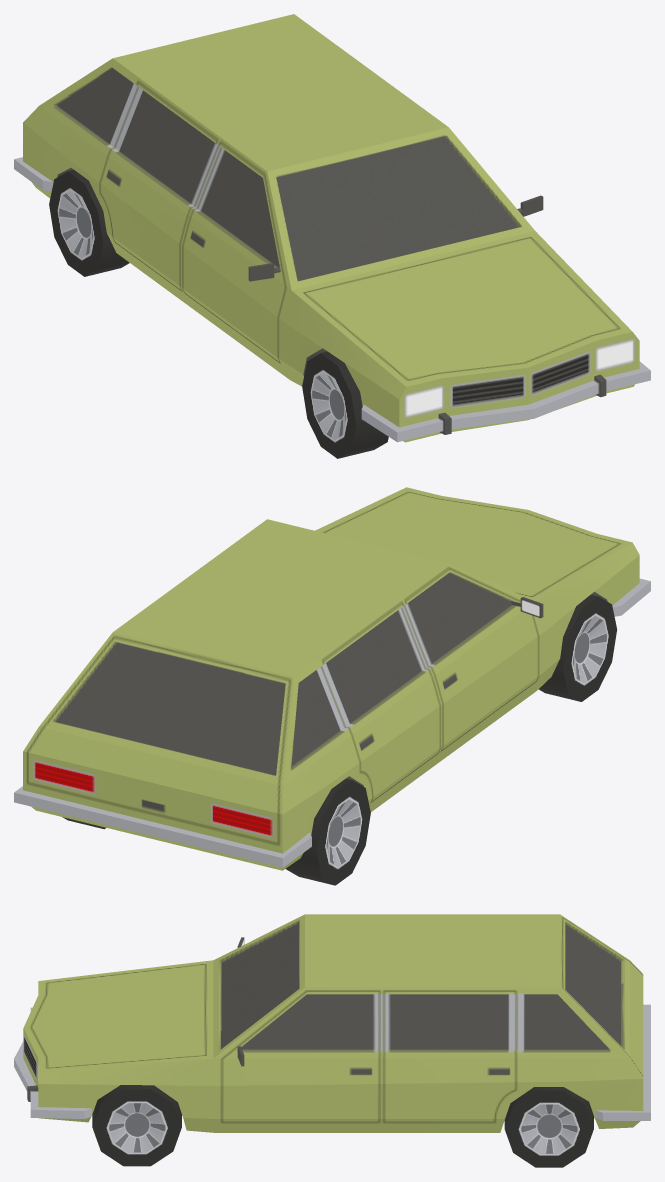
Rendered from Car2.glb.
3 views of the same model, one above another, from view 1: azimuth 30°, elevation 25°; view 2: azimuth 150°, elevation 25°; view 3: azimuth 270°, elevation 25° (orthographic). The views are drawn at different scales.
Visible parts, largest first — view 1: Object014; view 2: Object014; view 3: Object014.
Boxes of the visible parts, x1,y1,x2,y2 form: Object014: (14,14,650,458); Object014: (14,487,650,885); Object014: (14,914,650,1167).
Bounding box in the file's own units: 1.01 × 0.6466 × 2.29.
5 materials, 5 textured.
